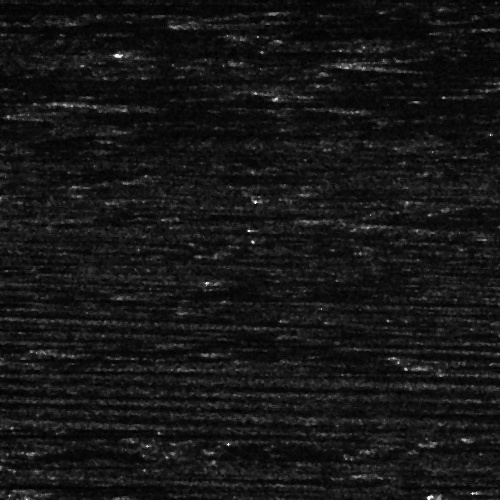object: (16, 96, 173, 109), (0, 108, 86, 119), (0, 426, 53, 437), (302, 60, 385, 67), (0, 462, 39, 465)
shadow: (0, 426, 296, 437), (40, 108, 244, 119), (95, 96, 234, 109), (0, 19, 105, 36), (344, 60, 419, 67), (19, 462, 154, 465)
